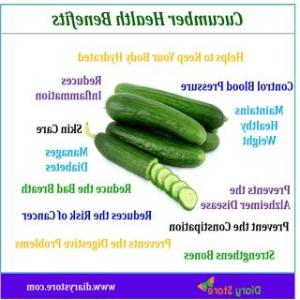cucumber: (113, 82, 226, 130), (104, 94, 206, 146), (106, 122, 208, 168), (95, 133, 162, 180), (180, 188, 198, 210), (171, 180, 187, 202), (163, 174, 178, 196), (158, 169, 173, 189)
